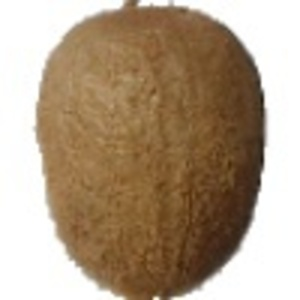kiwi: (34, 1, 268, 300)
